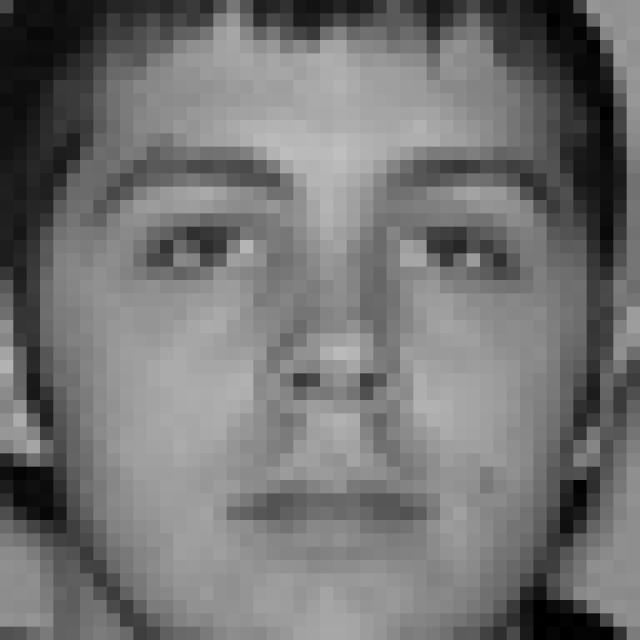neutral: (87, 138, 570, 570)
